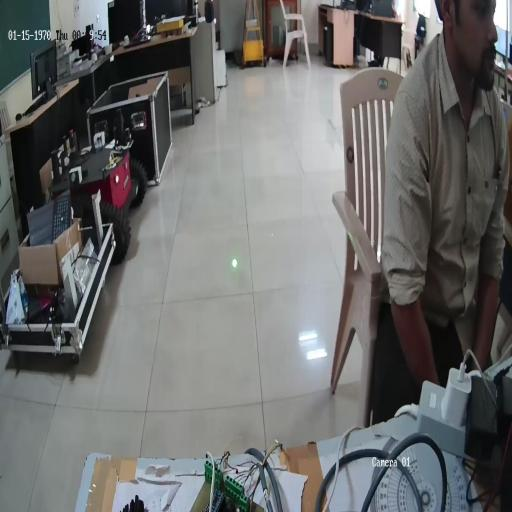laser: (230, 256, 239, 269)
